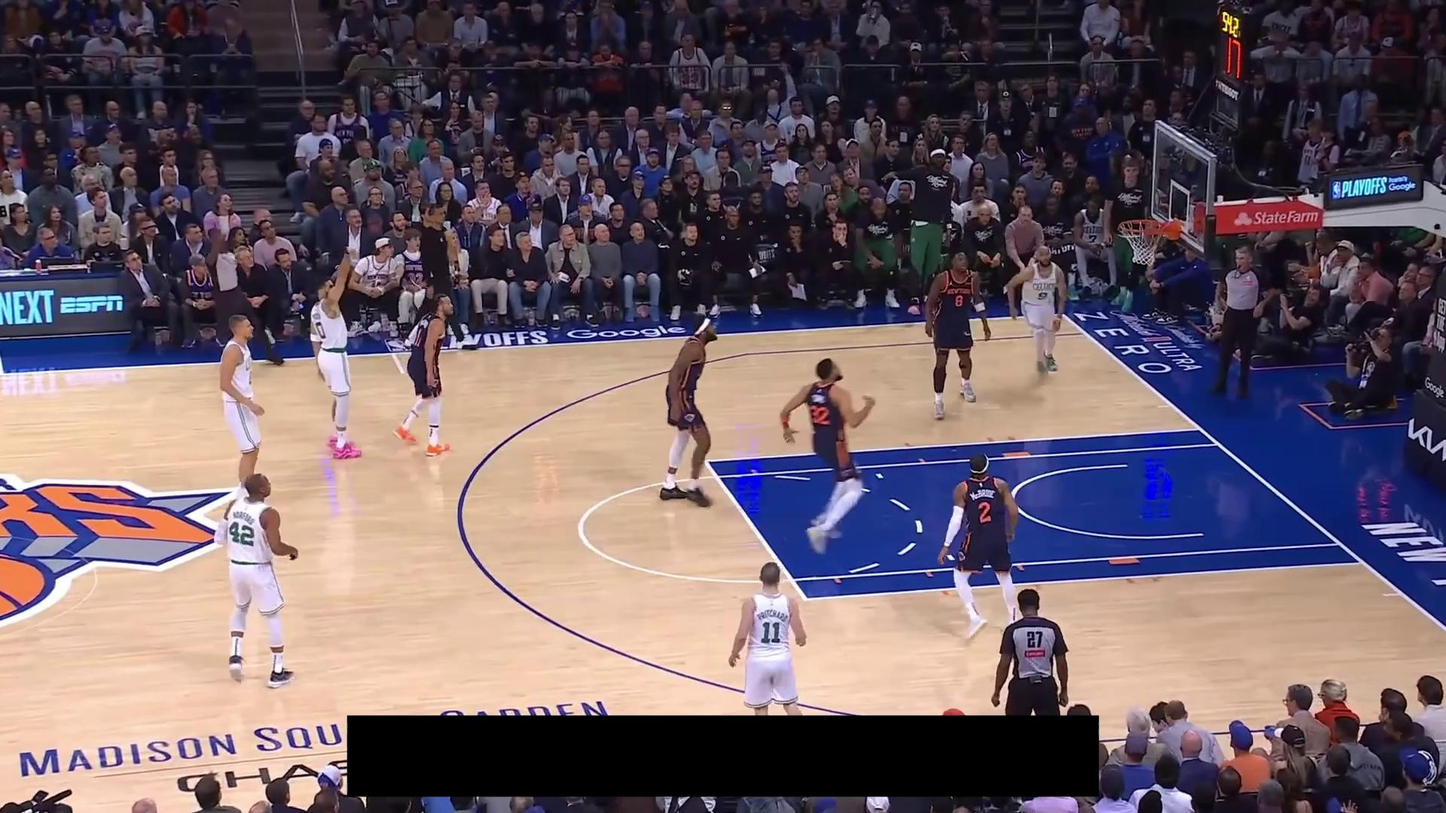ball: (1143, 221, 1167, 246)
ball-in-basket: (1118, 218, 1167, 266)
number: (229, 521, 255, 547), (761, 621, 781, 644), (810, 404, 830, 425), (978, 501, 992, 523), (315, 321, 327, 340), (954, 294, 964, 308), (1037, 290, 1048, 301)
player: (777, 356, 877, 557), (212, 471, 300, 690), (936, 450, 1023, 643), (727, 561, 809, 716), (923, 247, 993, 422), (309, 247, 365, 461), (658, 314, 718, 508), (393, 291, 456, 458), (215, 311, 268, 504), (1002, 244, 1069, 382)
referee: (204, 209, 288, 367), (1207, 244, 1277, 398), (991, 587, 1070, 716)
rim: (1118, 218, 1167, 235)
